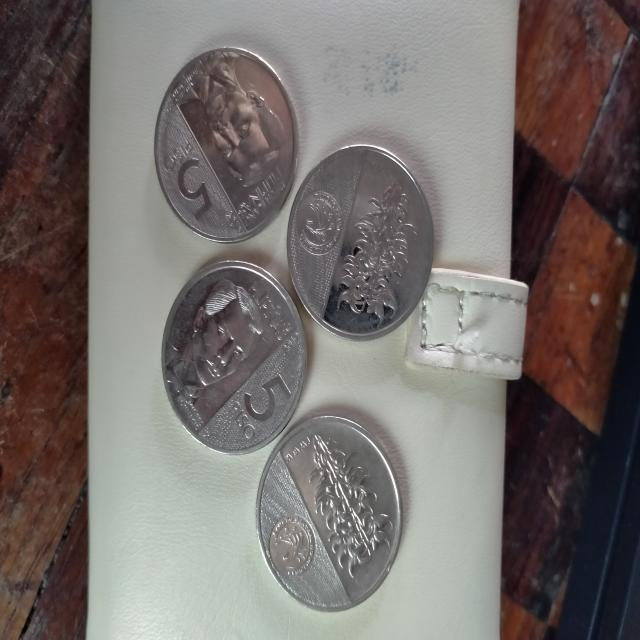5_New_Back: (329, 165, 423, 344), (314, 424, 398, 572)
5_New_Front: (224, 368, 306, 452), (151, 129, 222, 223)
